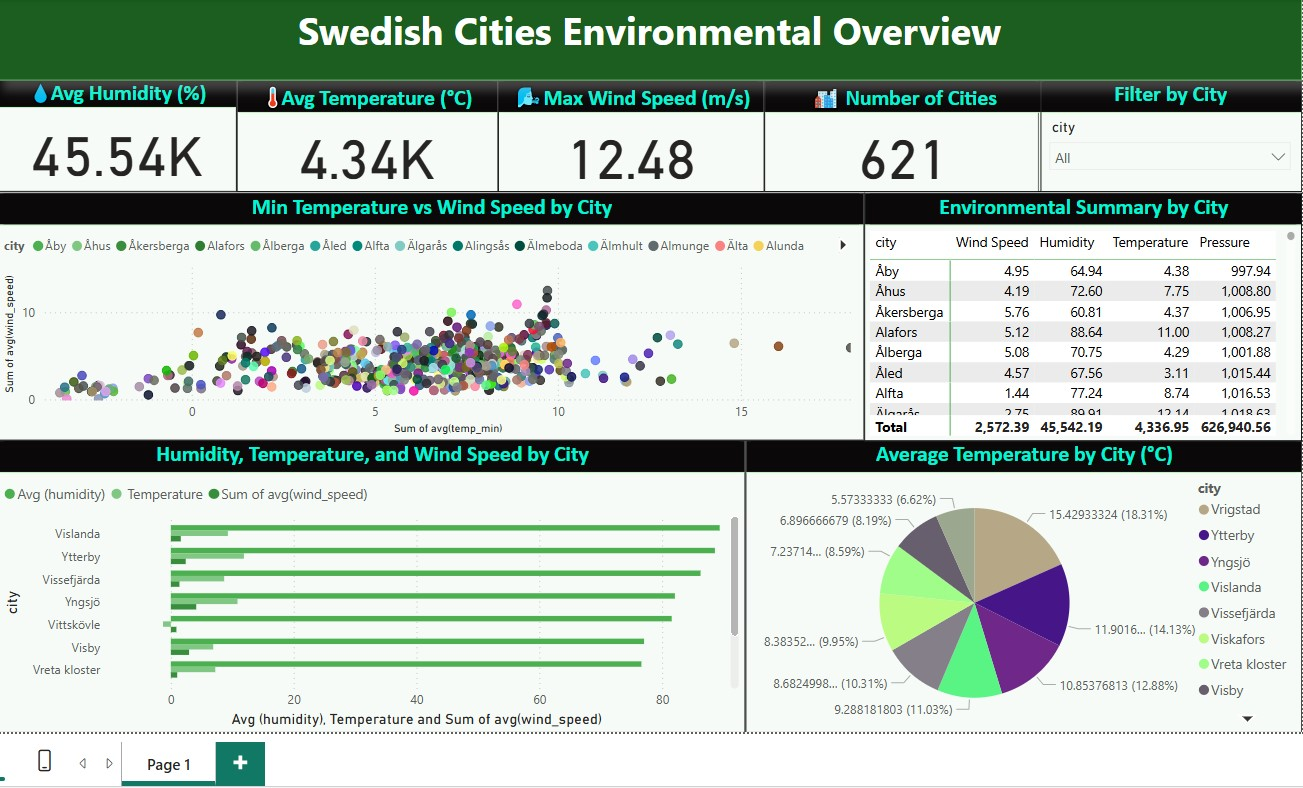

The dashboard page shown, as its layout file describes it:
{"tool":"powerbi","page":{"name":"Page 1","canvas":[1280,720],"ordinal":0},"visuals":[{"type":"clusteredBarChart","title":"Humidity, Temperature, and Wind Speed by City","fields":{"Category":["Environmental_Day_Transformed.city"],"Y":["Sum(Environmental_Day_Transformed.avg(humidity))","Sum(Environmental_Day_Transformed.avg(temperature))","Sum(Environmental_Day_Transformed.avg(wind_speed))"]},"box":[0,433.1,733.7,287.1],"z":0},{"type":"pieChart","title":"Average Temperature by City (°C)","fields":{"Category":["Environmental_Day_Transformed.city"],"Y":["Sum(Environmental_Day_Transformed.avg(temperature))"]},"box":[733.7,433.1,546,287.1],"z":1000},{"type":"pivotTable","title":"Environmental Summary by City","fields":{"Rows":["Environmental_Day_Transformed.city"],"Values":["Sum(Environmental_Day_Transformed.avg(wind_speed))","Sum(Environmental_Day_Transformed.avg(humidity))","Sum(Environmental_Day_Transformed.avg(temperature))","Sum(Environmental_Day_Transformed.avg(pressure))"]},"box":[850.3,190.2,429.5,244.2],"z":2000},{"type":"scatterChart","title":"Min Temperature vs Wind Speed by City","fields":{"X":["Sum(Environmental_Day_Transformed.avg(temp_min))"],"Y":["Sum(Environmental_Day_Transformed.avg(wind_speed))"],"Series":["Environmental_Day_Transformed.city"]},"box":[0,190.2,850.3,242.9],"z":3000},{"type":"slicer","title":"Filter by City","fields":{"Values":["Environmental_Day_Transformed.city"]},"box":[1020.9,79.8,258.9,109.2],"z":4000},{"type":"card","title":"🌡️Avg Temperature (°C)","fields":{"Values":["Sum(Environmental_Day_Transformed.avg(temperature))"]},"box":[234.4,79.8,256.4,109.2],"z":5000},{"type":"card","title":"💧Avg Humidity (%)","fields":{"Values":["Sum(Environmental_Day_Transformed.avg(humidity))"]},"box":[0,74.8,234.4,114.1],"z":6000},{"type":"card","title":"🌬️Max Wind Speed (m/s)","fields":{"Values":["Max(Environmental_Day_Transformed.avg(wind_speed))"]},"box":[490.8,79.8,261.4,109.2],"z":7000},{"type":"card","title":"🏙️ Number of Cities","fields":{"Values":["Count(Environmental_Day_Transformed.city)"]},"box":[752.2,79.8,272.4,109.2],"z":8000},{"type":"textbox","box":[0,0,1279.8,79.8],"z":9000}]}

Visuals, with their boxes in screenshot pixels (x1, y1, x2, y2):
"Humidity, Temperature, and Wind Speed by City" clusteredBarChart: 7 465 743 754
"Average Temperature by City (°C)" pieChart: 743 465 1291 754
"Environmental Summary by City" pivotTable: 860 221 1292 467
"Min Temperature vs Wind Speed by City" scatterChart: 7 221 860 465
"Filter by City" slicer: 1032 111 1292 220
"🌡️Avg Temperature (°C)" card: 242 111 500 220
"💧Avg Humidity (%)" card: 7 106 242 220
"🌬️Max Wind Speed (m/s)" card: 500 111 762 220
"🏙️ Number of Cities" card: 762 111 1035 220
textbox: 7 31 1292 111
